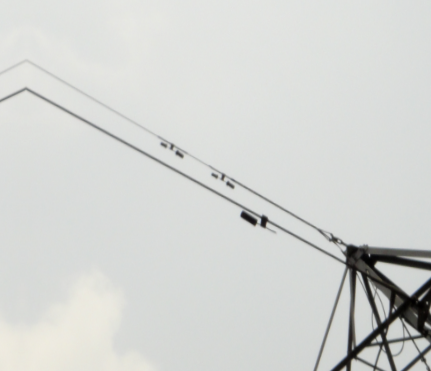damper: (209, 170, 236, 189), (159, 140, 184, 158)
damper_defect: (238, 207, 278, 235)
